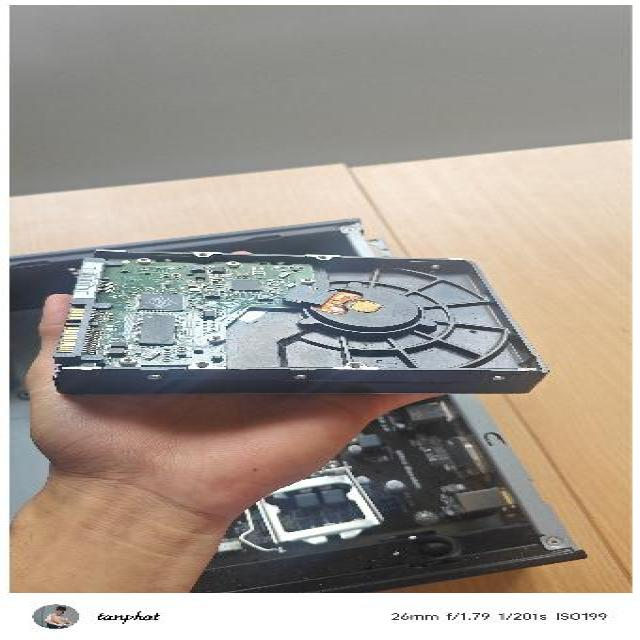DISK: (51, 244, 551, 398)
